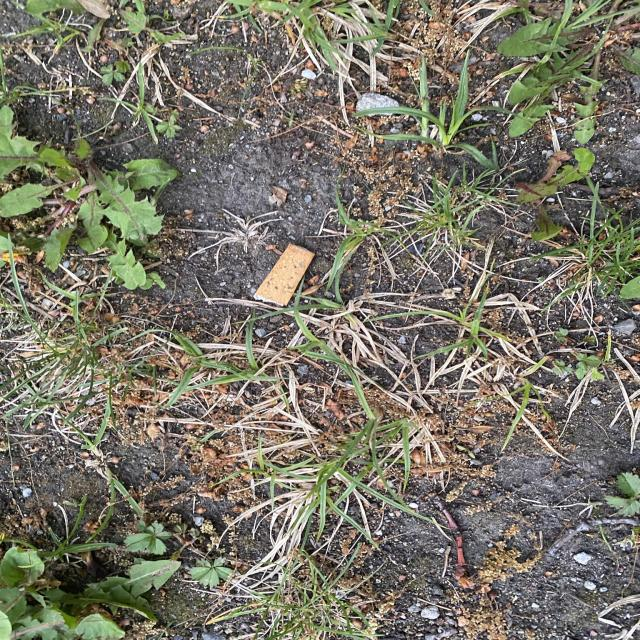other waste: (252, 243, 316, 306)
